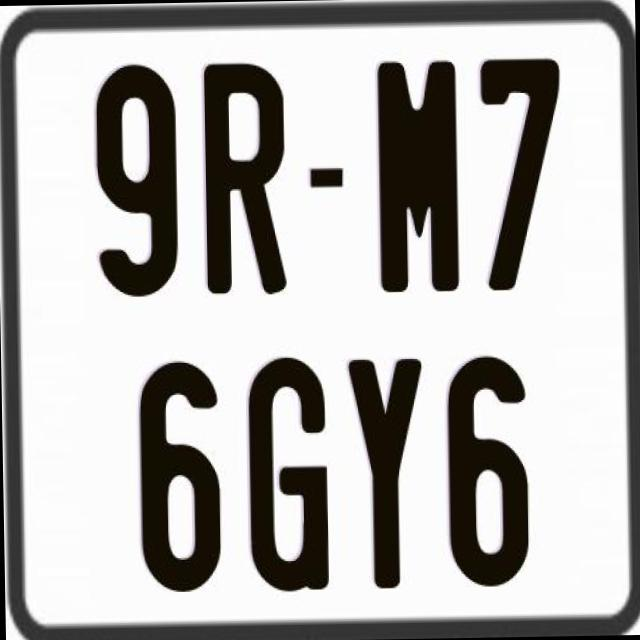6: (136, 357, 226, 592), (442, 353, 530, 585)
7: (476, 54, 560, 286)
9: (90, 61, 178, 296)
G: (244, 354, 328, 596)
M: (376, 60, 458, 300)
R: (200, 60, 290, 301)
Y: (347, 355, 427, 593)
